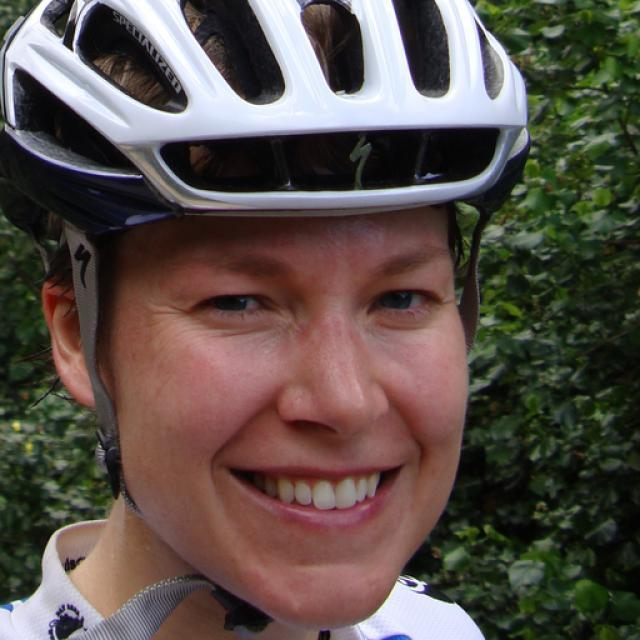happy: (111, 135, 466, 621)
